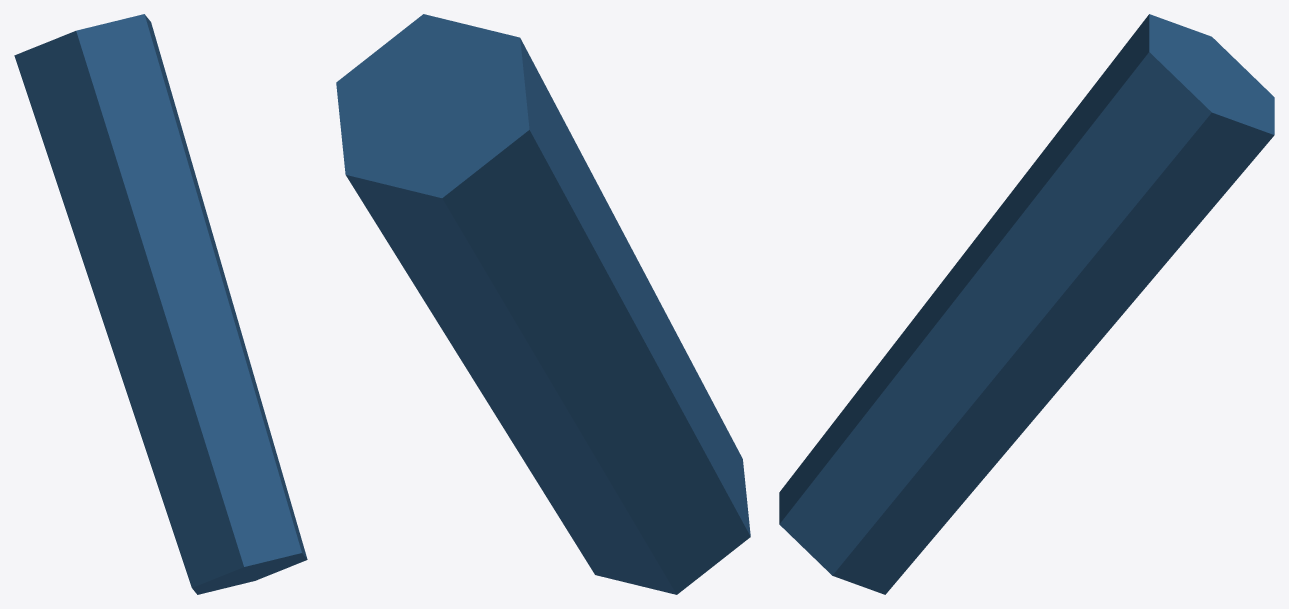
Rendered from rm2_tool_upper.obj.
3 renders of one model, left to right at view 1: azimuth 30°, elevation 25°; view 2: azimuth 150°, elevation 25°; view 3: azimuth 270°, elevation 25°, orthographic. The views are drawn at different scales.
Visible parts, largest first — view 1: rm2_tool_upper; view 2: rm2_tool_upper; view 3: rm2_tool_upper.
Boxes of the visible parts, box(x1,y1,x2,y2) form: rm2_tool_upper: box(14, 14, 307, 594); rm2_tool_upper: box(336, 14, 750, 594); rm2_tool_upper: box(779, 14, 1274, 594).
Bounding box in the file's own units: 0.052 × 0.1746 × 0.1435.
